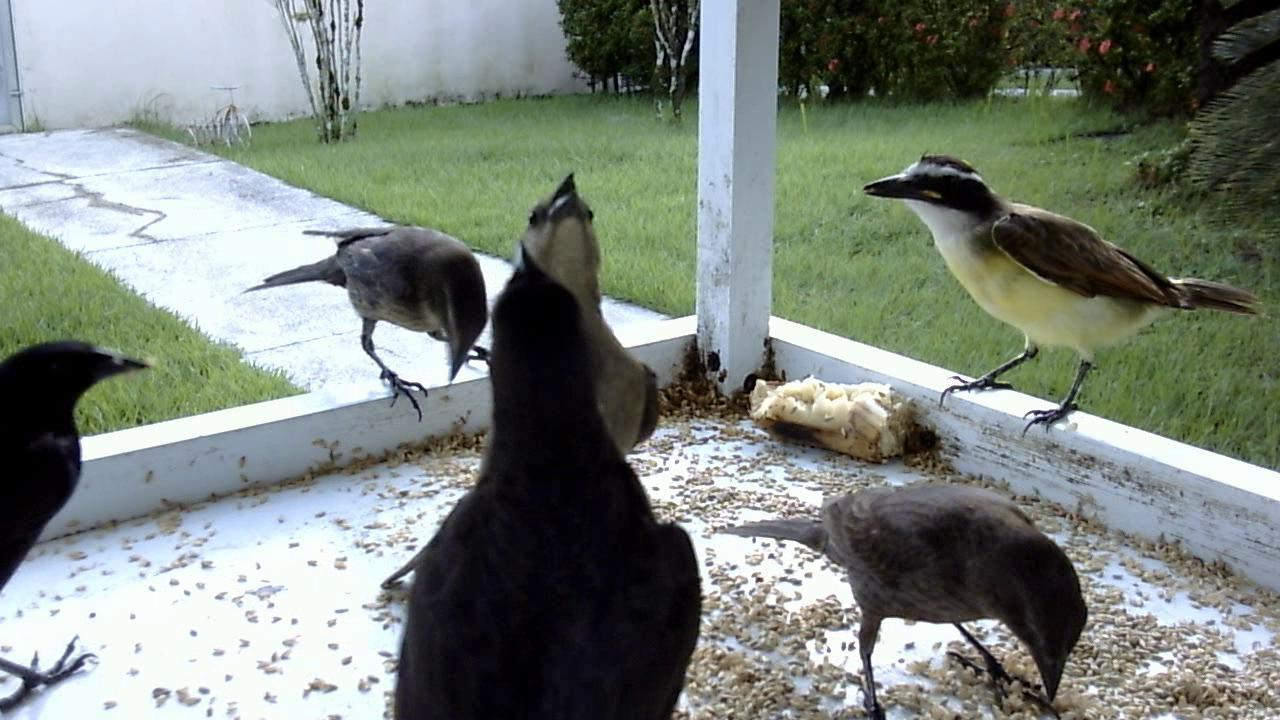bem_te_vi: (852, 141, 1254, 456)
chupim: (386, 238, 701, 708), (699, 467, 1098, 720), (1, 326, 159, 720), (466, 171, 665, 481), (234, 212, 498, 428)
